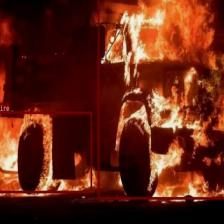fire: (97, 0, 224, 199), (0, 111, 91, 192)
